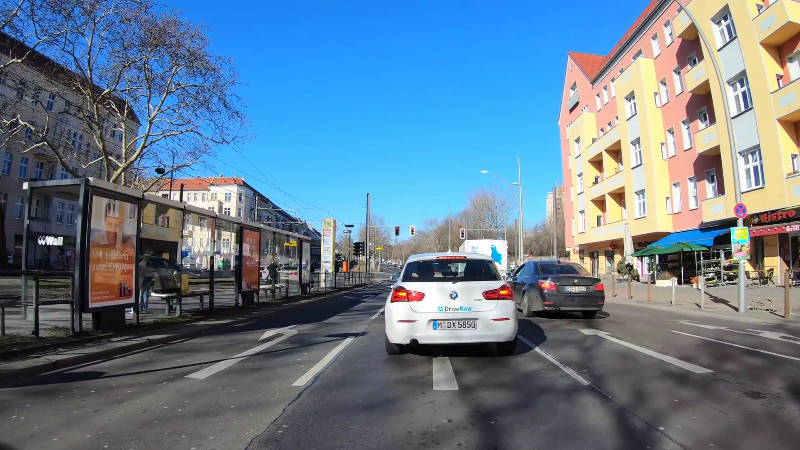Plate: (433, 317, 478, 330), (563, 284, 589, 293)
